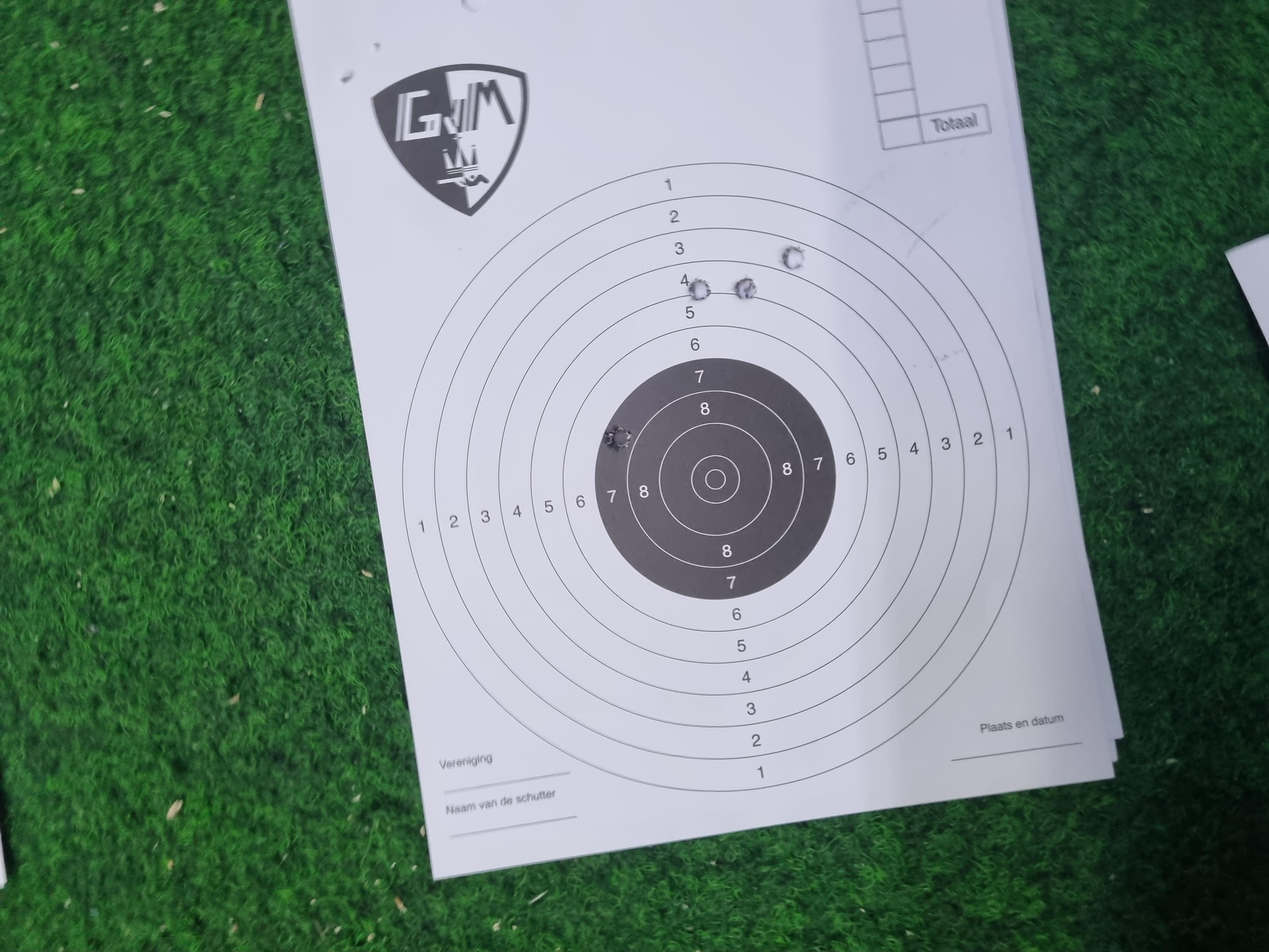hole: (668, 453, 702, 473), (908, 586, 942, 604), (869, 550, 897, 569), (868, 517, 899, 534)
